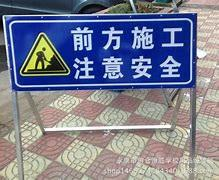sign: (5, 17, 197, 90)
